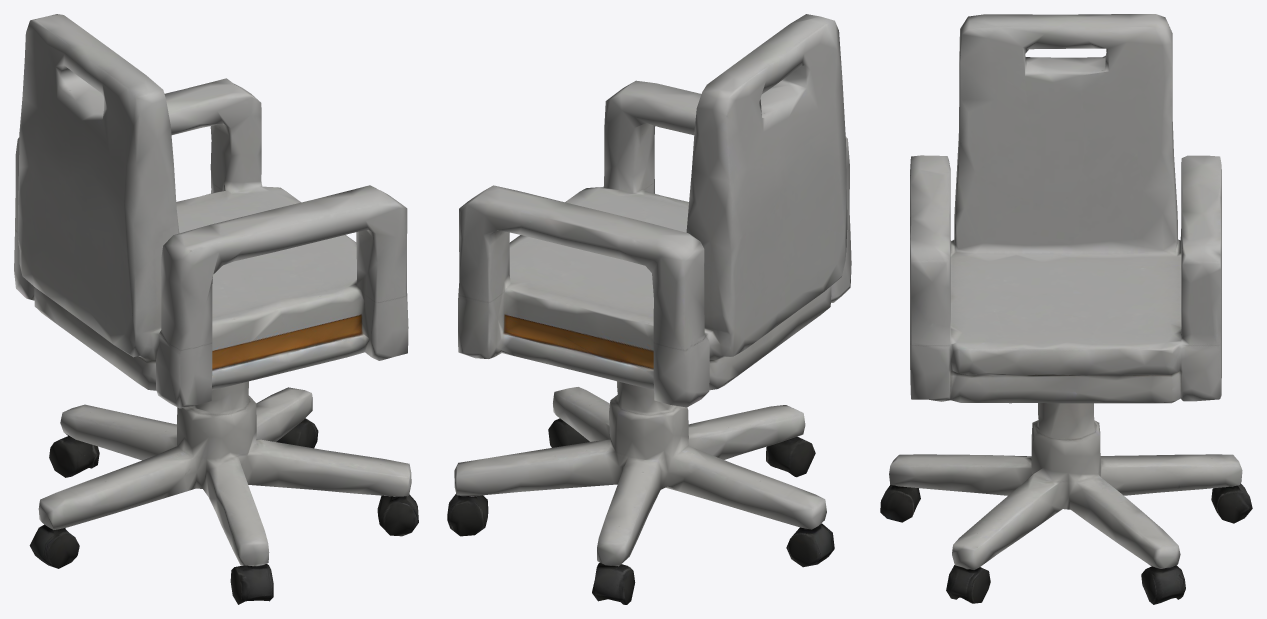
3 renders of one model, left to right at view 1: azimuth 30°, elevation 25°; view 2: azimuth 150°, elevation 25°; view 3: azimuth 270°, elevation 25°, orthographic. The views are drawn at different scales.
Visible parts, largest first — view 1: tripo_node_52de0b2f-4a77-4afd-bcf2-35bf63ef3c7a; view 2: tripo_node_52de0b2f-4a77-4afd-bcf2-35bf63ef3c7a; view 3: tripo_node_52de0b2f-4a77-4afd-bcf2-35bf63ef3c7a.
Boxes of the visible parts, x1=… form: tripo_node_52de0b2f-4a77-4afd-bcf2-35bf63ef3c7a: x1=14, y1=14, x2=418, y2=604; tripo_node_52de0b2f-4a77-4afd-bcf2-35bf63ef3c7a: x1=447, y1=14, x2=851, y2=604; tripo_node_52de0b2f-4a77-4afd-bcf2-35bf63ef3c7a: x1=880, y1=14, x2=1252, y2=604.
Bounding box in the file's own units: 0.6882 × 0.9991 × 0.7206.
1 material, 1 textured.
